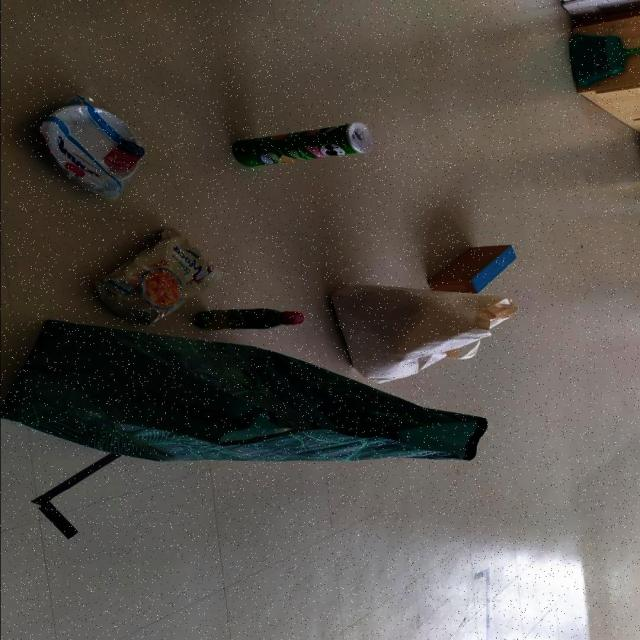Bag: (0, 320, 487, 464), (335, 280, 517, 383)
CornFlakes: (92, 227, 220, 326)
Guarana: (194, 306, 304, 328)
Plate: (36, 104, 142, 187)
Pringles: (230, 120, 374, 165)
